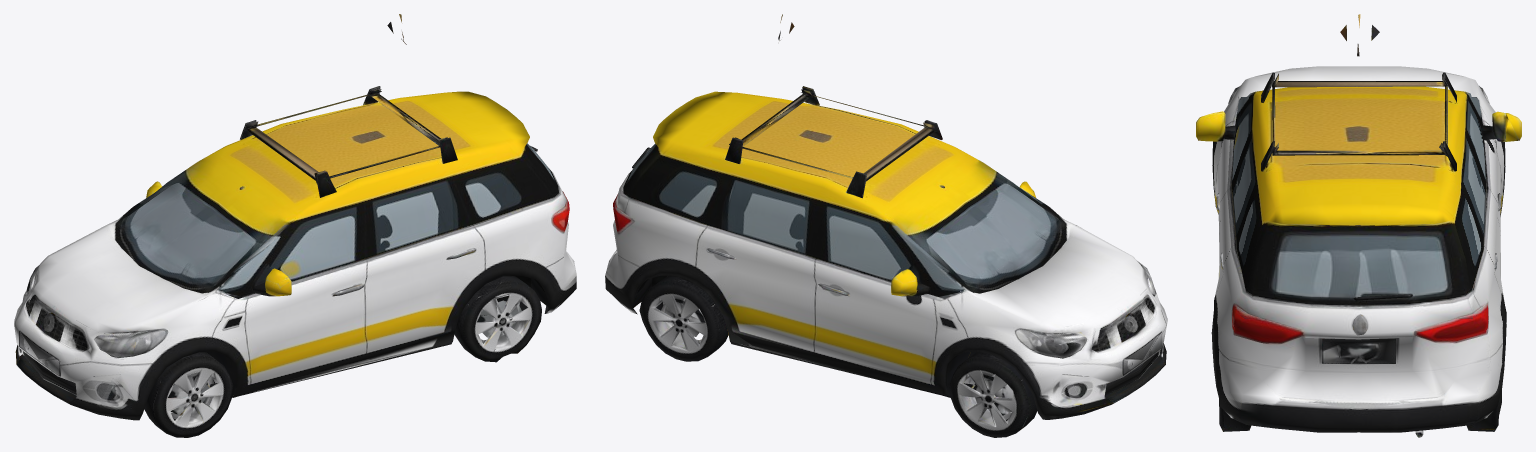
The model's file is team_car.glb.
3 views of the same model, side by side, from view 1: azimuth 30°, elevation 25°; view 2: azimuth 150°, elevation 25°; view 3: azimuth 270°, elevation 25° (orthographic). The views are drawn at different scales.
Size of the model in its own units: 0.9561 by 0.5688 by 0.4351.
Materials: 1 (1 with a texture image).
